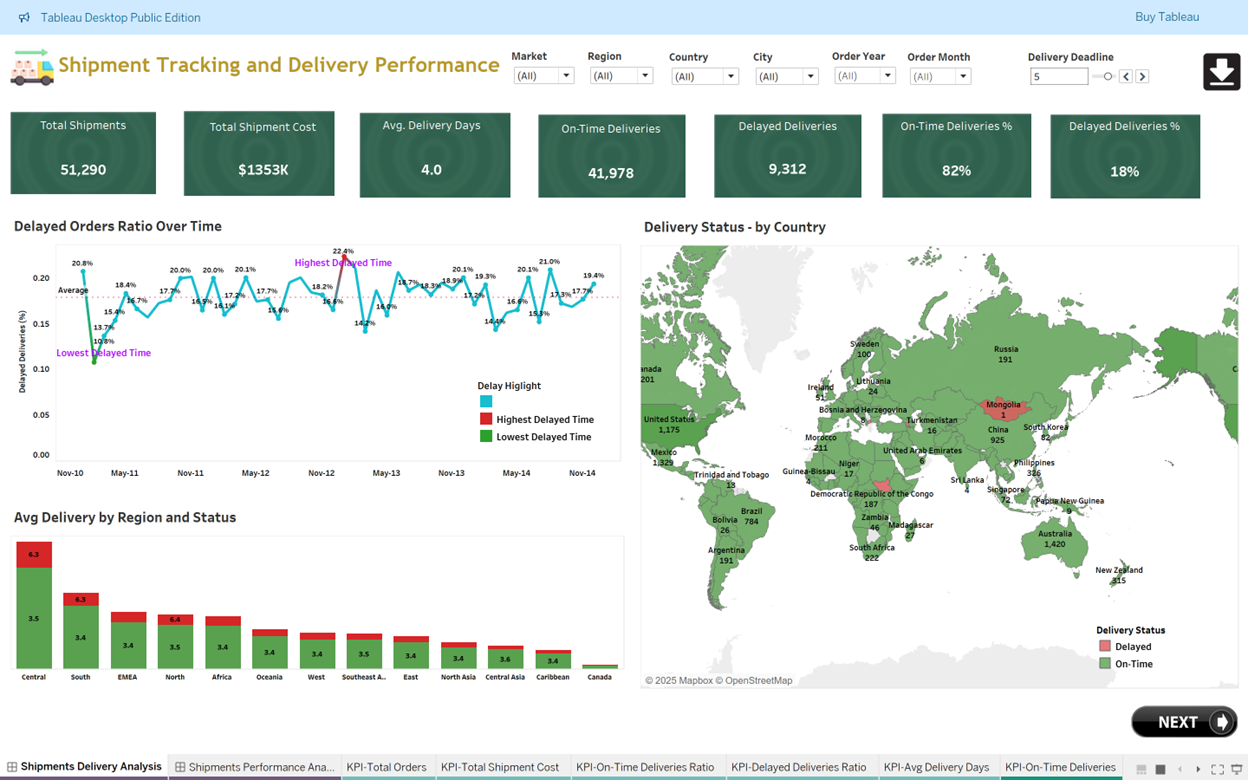

The page's visual inventory and layout, read from the dashboard file:
{"tool":"tableau","page":{"name":"Shipments Delivery Analysis","canvas":[1000,1000],"units":"permille","ordinal":0},"visuals":[{"type":"text","box":[45,4.4,362.2,72.5]},{"type":"image","param":"Image/Shipment-Icon.jpeg","box":[8.1,10.4,35,68]},{"type":"filter","title":"Delivery Status - by Country","param":"[federated.0oeoswh0jdtfcr1g4w7tg1t58om9].[none:Market:nk]","box":[409.5,19.2,53,63.6]},{"type":"filter","title":"Delivery Status - by Country","param":"[federated.0oeoswh0jdtfcr1g4w7tg1t58om9].[none:Region:nk]","box":[471,19.2,55.2,65.1]},{"type":"filter","title":"Delivery Status - by Country","param":"[federated.0oeoswh0jdtfcr1g4w7tg1t58om9].[yr:Order Date:ok]","box":[666.9,19.2,53.8,60.6]},{"type":"dashboard-object","box":[961.8,19.2,34.2,62.1]},{"type":"filter","title":"Delivery Status - by Country","param":"[federated.0oeoswh0jdtfcr1g4w7tg1t58om9].[none:Country:nk]","box":[536.1,20.7,58,62.1]},{"type":"filter","title":"Delivery Status - by Country","param":"[federated.0oeoswh0jdtfcr1g4w7tg1t58om9].[none:City:nk]","box":[603.2,20.7,55.2,62.1]},{"type":"filter","title":"Delivery Status - by Country","param":"[federated.0oeoswh0jdtfcr1g4w7tg1t58om9].[mn:Order Date:ok]","box":[727,20.7,53.8,81.4]},{"type":"parameter","param":"[Parameters].[Parameter 1]","box":[823.4,20.7,99.3,56.2]},{"type":"image","param":"Image/Plain Babkground for KPI.png","box":[8.1,96.2,117.2,137.6]},{"type":"image","param":"Image/Plain Babkground for KPI.png","box":[841.4,105,120.2,128.7]},{"type":"image","param":"Image/Plain Babkground for KPI.png","box":[141.5,106.5,131.6,118.3]},{"type":"image","param":"Image/Plain Babkground for KPI.png","box":[286.2,108,125.1,118.3]},{"type":"image","param":"Image/Plain Babkground for KPI.png","box":[430.9,108,118.6,121.3]},{"type":"worksheet","title":"KPI-Total Orders","mark":"Automatic","box":[9,109.5,115.5,113.9]},{"type":"worksheet","title":"KPI-Avg Delivery Days","mark":"Automatic","box":[288.6,109.5,113.7,115.4]},{"type":"image","param":"Image/Plain Babkground for KPI.png","box":[700.6,109.5,132.6,116.9]},{"type":"image","param":"Image/Plain Babkground for KPI.png","box":[570.7,111,121,115.4]},{"type":"worksheet","title":"KPI-Delayed Deliveries","mark":"Automatic","box":[576.5,111,109.6,109.5]},{"type":"worksheet","title":"KPI-On-Time Deliveries Ratio","mark":"Automatic","box":[709.5,111,113.1,113.9]},{"type":"worksheet","title":"KPI-Delayed Deliveries Ratio","mark":"Automatic","box":[843,111,116.1,116.9]},{"type":"worksheet","title":"KPI-Total Shipment Cost","mark":"Automatic","box":[155.4,112.4,110.4,109.5]},{"type":"worksheet","title":"KPI-On-Time Deliveries","mark":"Automatic","box":[432.9,113.9,113.9,113.9]},{"type":"worksheet","title":"Delayed Orders Ratio Over Time","mark":"Automatic","rows":["Calculation_2994893763984216072"],"cols":["Order Date"],"box":[8.5,247,489.4,392]},{"type":"worksheet","title":"Delivery Status - by Country","mark":"Multipolygon","box":[513.4,248.5,480.1,661.2]},{"type":"legend","title":"Delayed Orders Ratio Over Time","param":"[federated.0oeoswh0jdtfcr1g4w7tg1t58om9].[usr:Calculation_1947525377272369153:nk","box":[382.7,477.8,113.7,113.9]},{"type":"legend","title":"Avg Delivery by Region and Status","param":"[federated.0oeoswh0jdtfcr1g4w7tg1t58om9].[none:Calculation_2994893763938332674:n","box":[778.7,486.7,96.8,85.8]},{"type":"worksheet","title":"Avg Delivery by Region and Status","mark":"Automatic","rows":["Calculation_2994893763984490505"],"cols":["Region"],"box":[8.5,652.4,492.2,255.9]},{"type":"legend","title":"Delivery Status - by Country","param":"[federated.0oeoswh0jdtfcr1g4w7tg1t58om9].[usr:Calculation_2994893764177293325:nk","box":[878.8,818.1,113.9,85.8]},{"type":"dashboard-object","box":[906.4,929,85.4,53.2]}]}

Visuals, with their boxes on the dashboard's canvas, which has no fixed pixel size, in thousandths of its width and height (x1, y1, x2, y2). These are canvas units, not pixel positions in the 1248x780 screenshot, which may show the page scaled, cropped or inside an application window:
text: bbox=(45, 4, 407, 77)
image: bbox=(8, 10, 43, 78)
"Delivery Status - by Country" filter: bbox=(410, 19, 462, 83)
"Delivery Status - by Country" filter: bbox=(471, 19, 526, 84)
"Delivery Status - by Country" filter: bbox=(667, 19, 721, 80)
dashboard-object: bbox=(962, 19, 996, 81)
"Delivery Status - by Country" filter: bbox=(536, 21, 594, 83)
"Delivery Status - by Country" filter: bbox=(603, 21, 658, 83)
"Delivery Status - by Country" filter: bbox=(727, 21, 781, 102)
parameter: bbox=(823, 21, 923, 77)
image: bbox=(8, 96, 125, 234)
image: bbox=(841, 105, 962, 234)
image: bbox=(142, 106, 273, 225)
image: bbox=(286, 108, 411, 226)
image: bbox=(431, 108, 550, 229)
"KPI-Total Orders" worksheet: bbox=(9, 110, 124, 223)
"KPI-Avg Delivery Days" worksheet: bbox=(289, 110, 402, 225)
image: bbox=(701, 110, 833, 226)
image: bbox=(571, 111, 692, 226)
"KPI-Delayed Deliveries" worksheet: bbox=(576, 111, 686, 220)
"KPI-On-Time Deliveries Ratio" worksheet: bbox=(710, 111, 823, 225)
"KPI-Delayed Deliveries Ratio" worksheet: bbox=(843, 111, 959, 228)
"KPI-Total Shipment Cost" worksheet: bbox=(155, 112, 266, 222)
"KPI-On-Time Deliveries" worksheet: bbox=(433, 114, 547, 228)
"Delayed Orders Ratio Over Time" worksheet: bbox=(8, 247, 498, 639)
"Delivery Status - by Country" worksheet (Multipolygon marks): bbox=(513, 248, 994, 910)
"Delayed Orders Ratio Over Time" legend: bbox=(383, 478, 496, 592)
"Avg Delivery by Region and Status" legend: bbox=(779, 487, 876, 572)
"Avg Delivery by Region and Status" worksheet: bbox=(8, 652, 501, 908)
"Delivery Status - by Country" legend: bbox=(879, 818, 993, 904)
dashboard-object: bbox=(906, 929, 992, 982)
